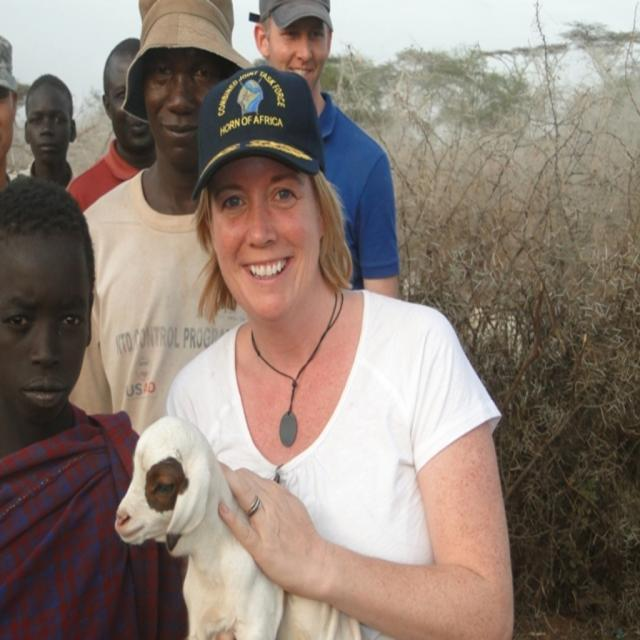Goat: (113, 413, 363, 639)
